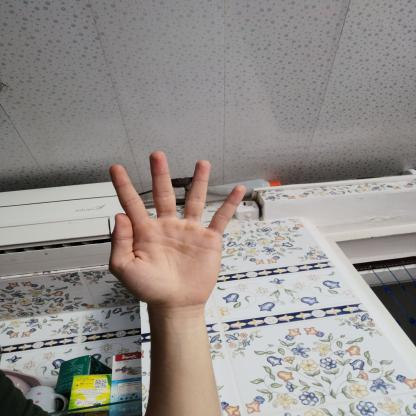SHEEN: (94, 143, 257, 316)
